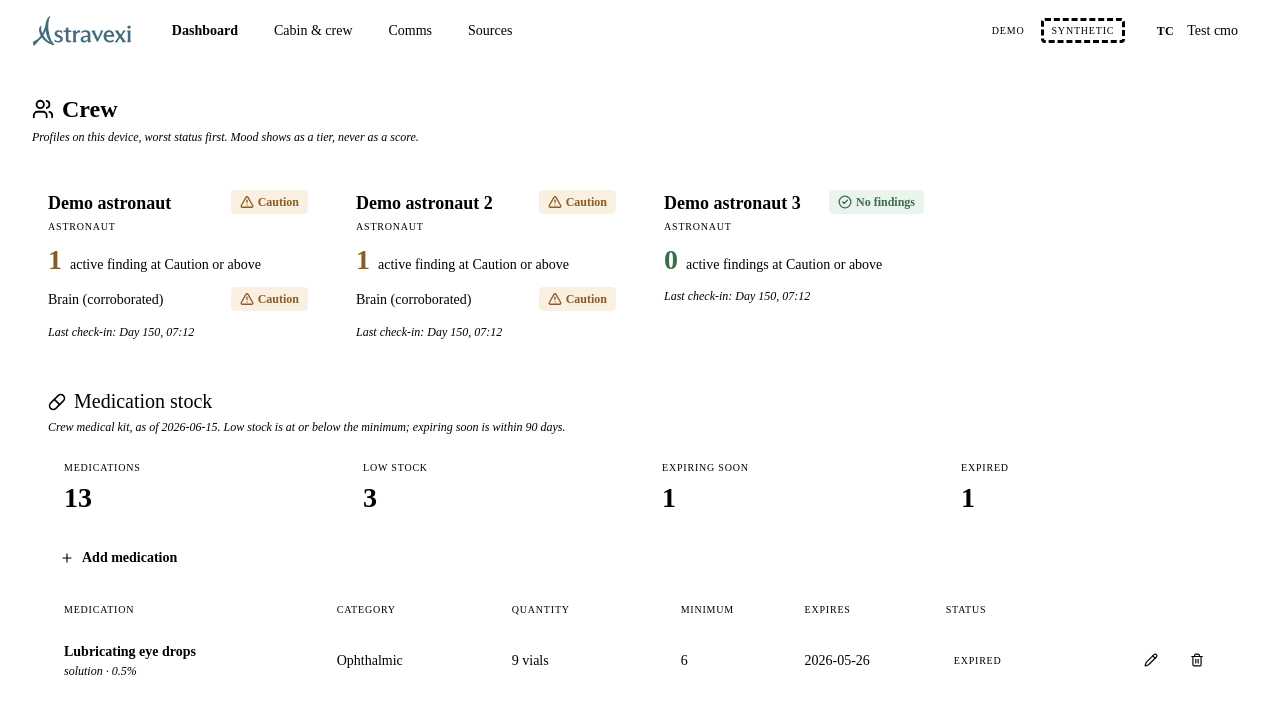
cabin forecast on the Cabin & crew page › shows the model card inside Data & method with the training data, the test method and MAE against both baselines
Click the button "Cabin & crew".
click(313, 30)  # box [258,12,368,49]
(page scrolled)
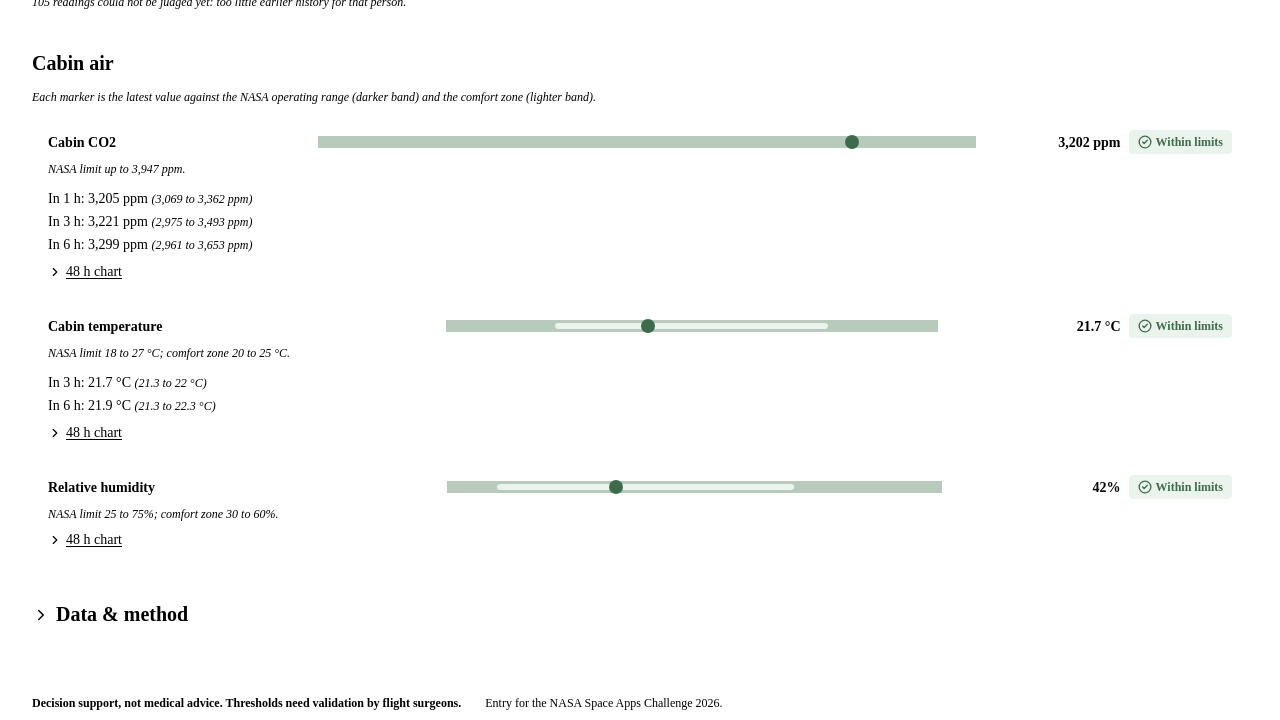
Click the button "Data & method".
click(110, 615)  # box [32,602,188,627]
(page scrolled)
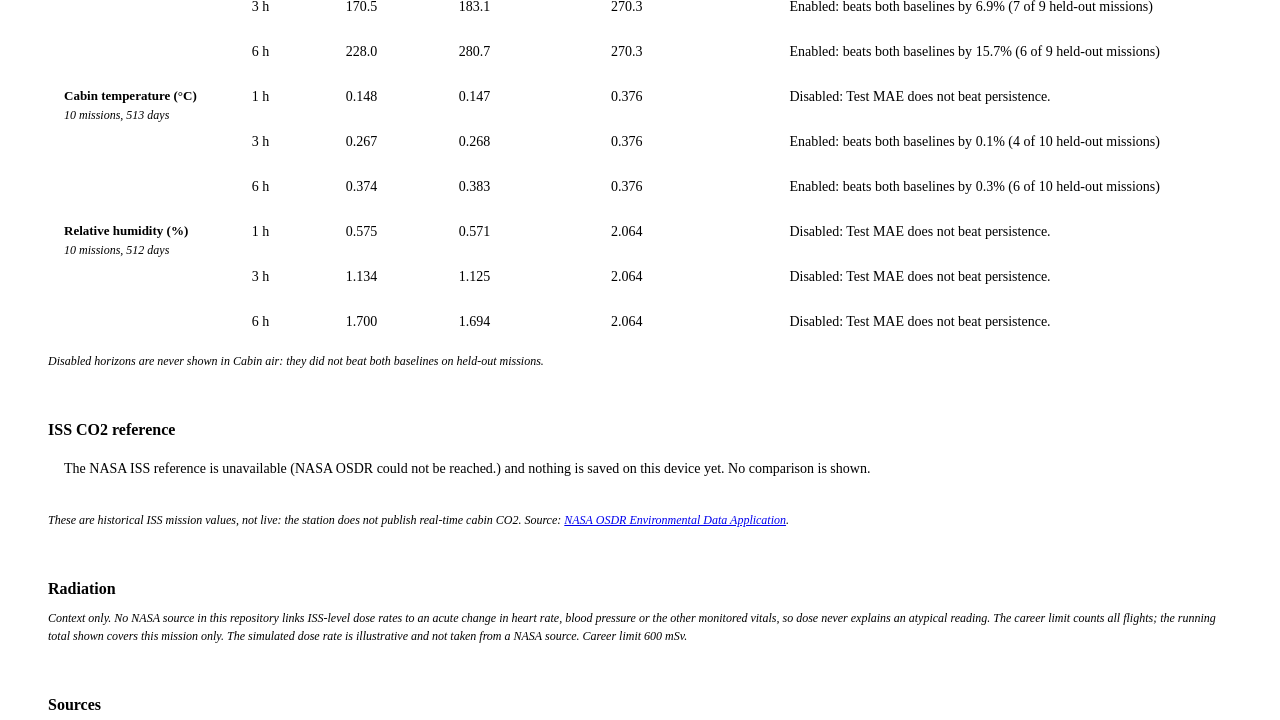
Result: the text "Disabled: Test MAE does not beat persistence." in the row of "Cabin temperature (°C)" is shown at [773,74,1232,119]
Result: the text "Disabled: Test MAE does not beat persistence." in the row of "Relative humidity (%)" is shown at [773,209,1232,254]
Result: the text "Disabled: Test MAE does not beat persistence." in the row of "1.134" is shown at [773,254,1232,299]
